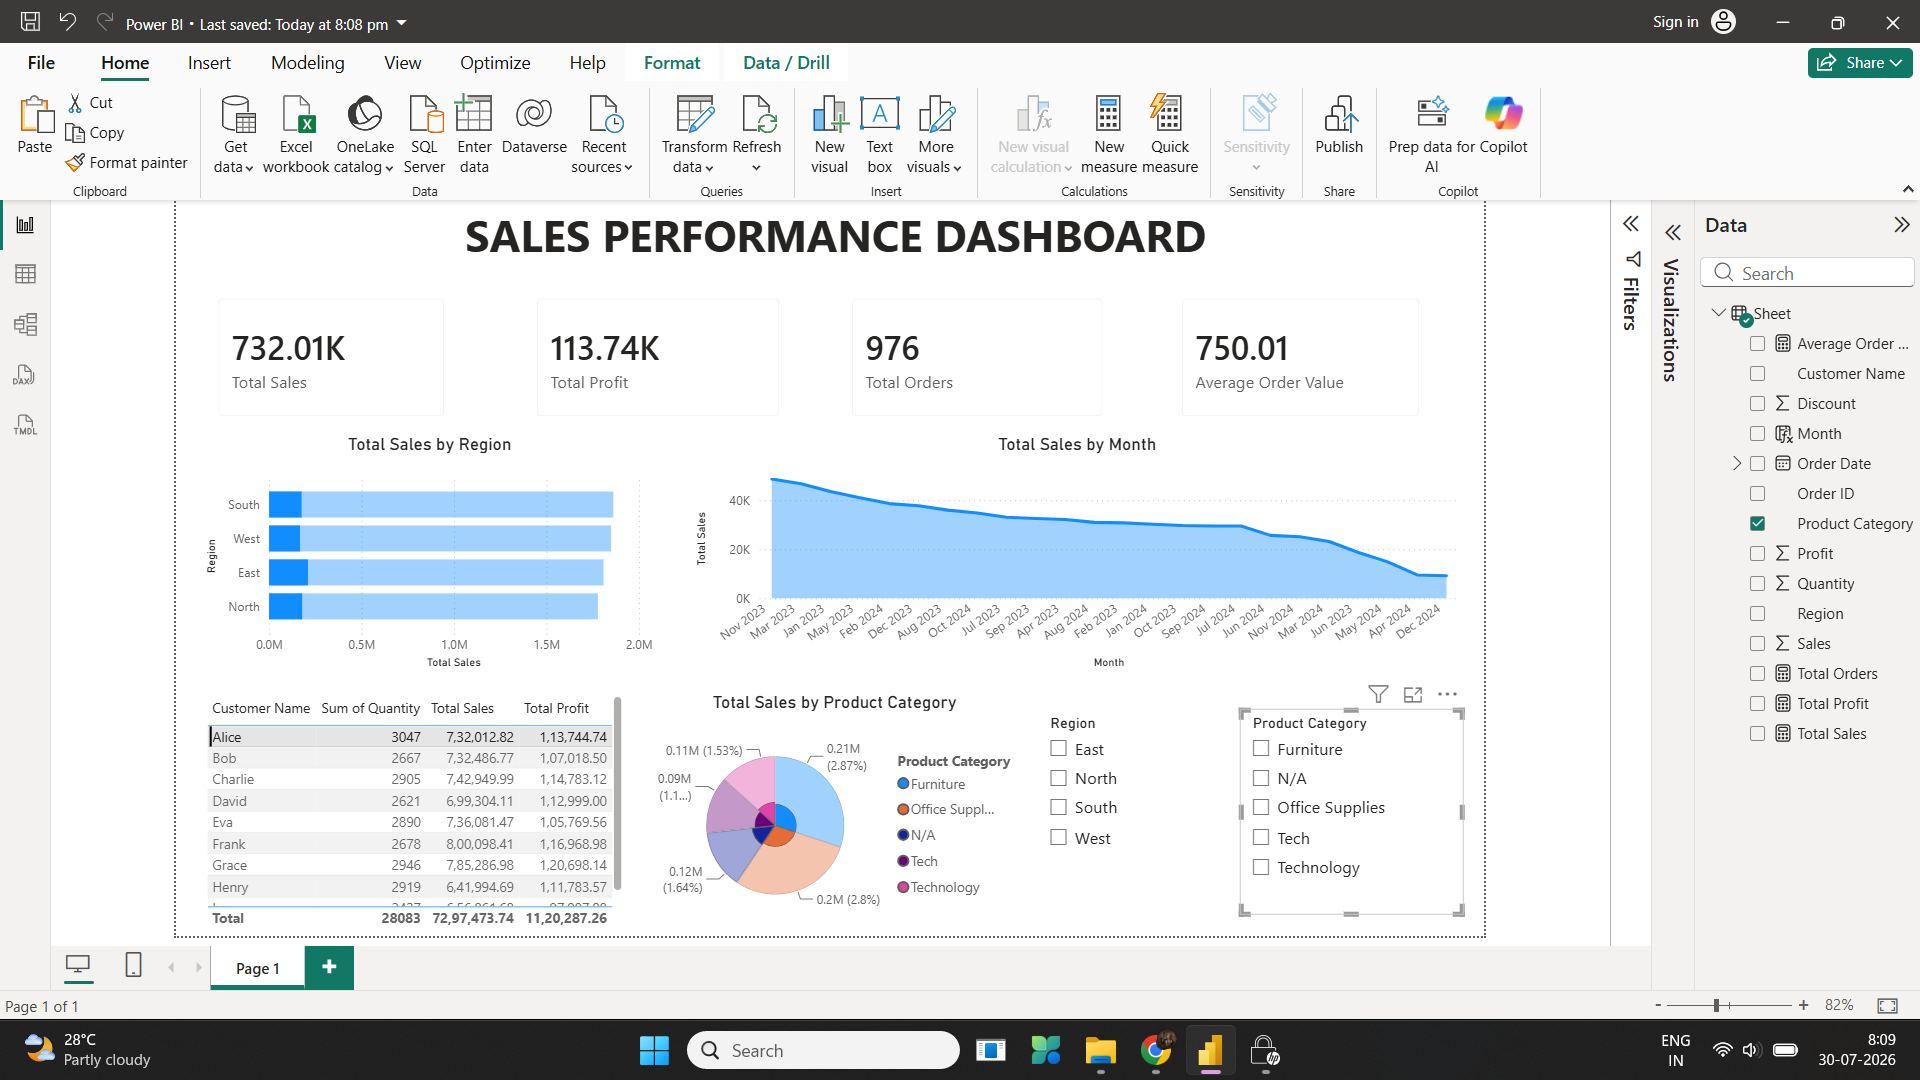

What the dashboard file says about the page in this screenshot:
{"tool":"powerbi","page":{"name":"Page 1","canvas":[1280,720],"ordinal":0},"visuals":[{"type":"textbox","box":[9.6,0,1270.7,70],"z":0},{"type":"cardVisual","fields":{"Data":["Sheet.Total Sales"]},"box":[24.7,79.6,255.2,149.6],"z":1000},{"type":"cardVisual","fields":{"Data":["Sheet.Total Profit"]},"box":[336.2,79.6,271.7,149.6],"z":2000},{"type":"cardVisual","fields":{"Data":["Sheet.Average Order Value"]},"box":[967.4,79.6,266.2,149.6],"z":3000},{"type":"cardVisual","fields":{"Data":["Sheet.Total Orders"]},"box":[644.9,79.6,279.9,149.6],"z":4000},{"type":"clusteredBarChart","fields":{"Category":["Sheet.Region"],"Y":["Sheet.Total Sales"]},"box":[24.5,228.7,447.6,234.8],"z":5000},{"type":"lineChart","fields":{"Y":["Sheet.Total Sales"],"Category":["Sheet.Month"]},"box":[503.8,228.7,755.7,234.8],"z":6000},{"type":"pieChart","fields":{"Category":["Sheet.Product Category"],"Y":["Sheet.Total Sales"]},"box":[462.2,480.6,364.4,232.3],"z":7000},{"type":"tableEx","fields":{"Values":["Sheet.Customer Name","Sum(Sheet.Quantity)","Sheet.Total Sales","Sheet.Total Profit"]},"box":[24.5,480.6,417,236],"z":8000},{"type":"slicer","fields":{"Values":["Sheet.Region"]},"box":[842.5,497.7,198.1,201.8],"z":9000},{"type":"slicer","fields":{"Values":["Sheet.Product Category"]},"box":[1040.6,497.7,219,202],"z":9001}]}

Visuals, with their boxes on the page's 1280x720 design canvas (x1, y1, x2, y2). These are canvas units, not pixel positions in the 1920x1080 screenshot, which may show the page scaled, cropped or inside an application window:
textbox: 10:0:1280:70
cardVisual - Sheet.Total Sales: 25:80:280:229
cardVisual - Sheet.Total Profit: 336:80:608:229
cardVisual - Sheet.Average Order Value: 967:80:1234:229
cardVisual - Sheet.Total Orders: 645:80:925:229
clusteredBarChart - Sheet.Region x Sheet.Total Sales: 24:229:472:464
lineChart - Sheet.Total Sales x Sheet.Month: 504:229:1260:464
pieChart - Sheet.Product Category x Sheet.Total Sales: 462:481:827:713
tableEx - Sheet.Customer Name x Sum(Sheet.Quantity): 24:481:442:717
slicer - Sheet.Region: 842:498:1041:700
slicer - Sheet.Product Category: 1041:498:1260:700
